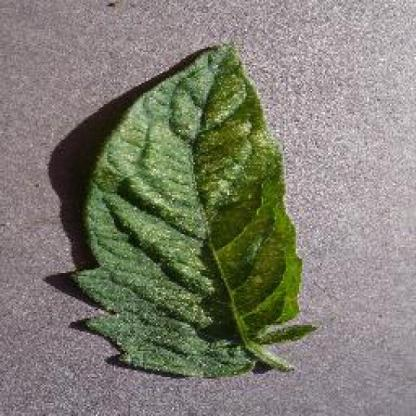Tomato_Spider_Mites: (79, 44, 314, 374)
